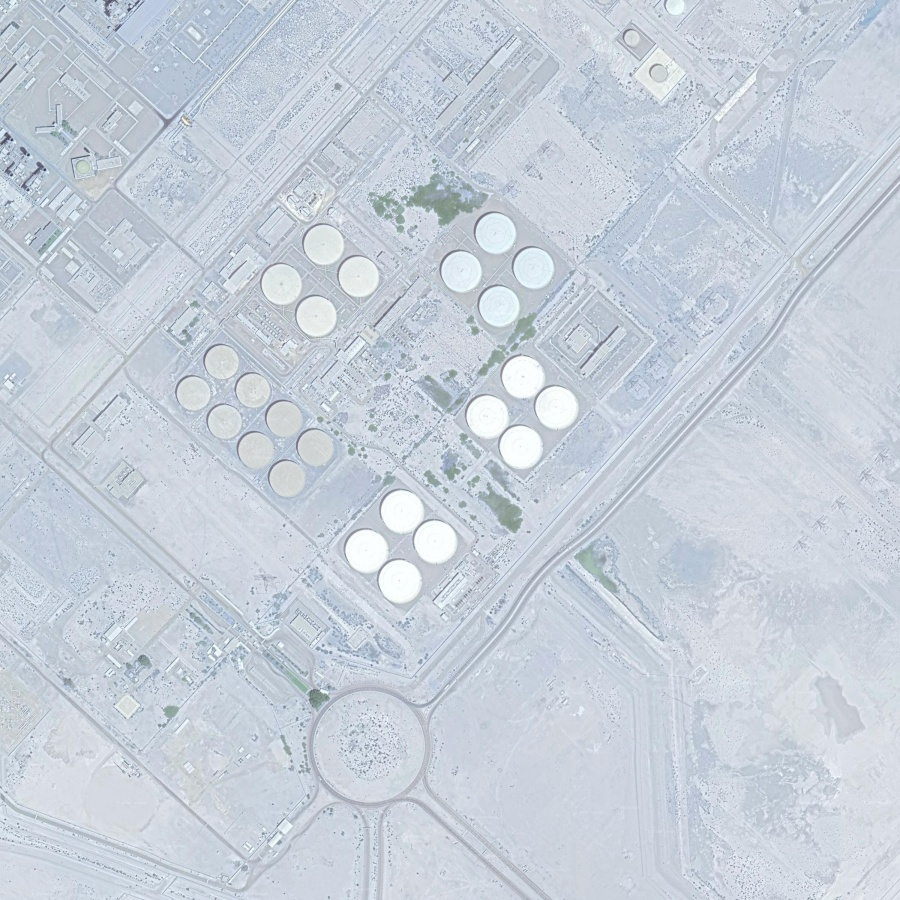PowerPlant: (166, 163, 616, 623)
